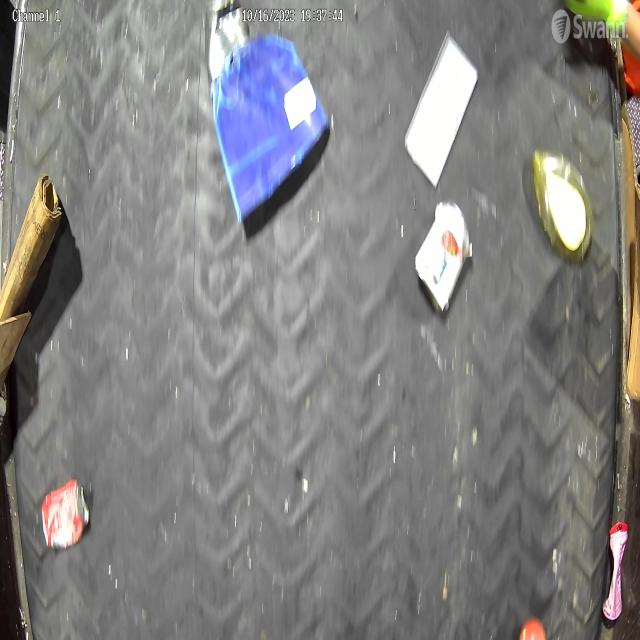can: (414, 198, 474, 314), (204, 0, 250, 95), (41, 477, 91, 552)
